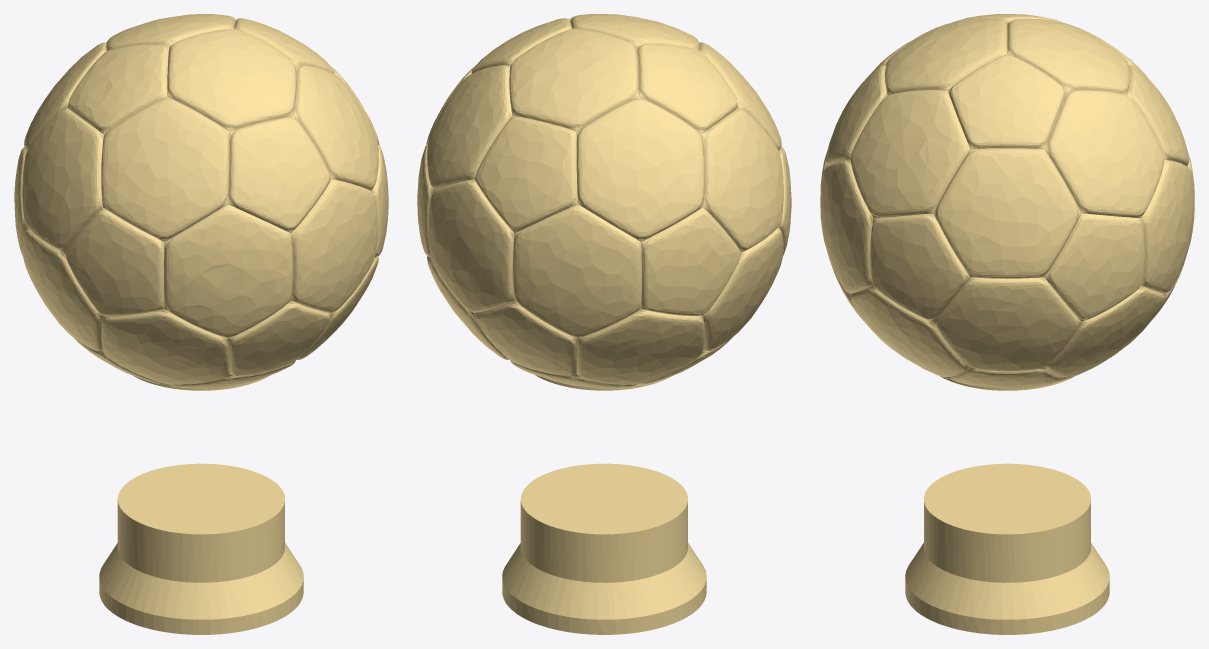
The model's file is Soccer Ball.fbx.
3 views of the same model, side by side, from view 1: azimuth 30°, elevation 25°; view 2: azimuth 150°, elevation 25°; view 3: azimuth 270°, elevation 25° (orthographic).
Parts seen in each view (by area): view 1: Ball, Base; view 2: Ball, Base; view 3: Ball, Base.
Part boxes in pixels (bbox=[...]): Ball: bbox=[14, 14, 388, 390]; Base: bbox=[99, 463, 303, 634]; Ball: bbox=[417, 14, 791, 390]; Base: bbox=[502, 463, 706, 634]; Ball: bbox=[820, 14, 1194, 390]; Base: bbox=[905, 463, 1109, 634].
Size of the model in its own units: 444 by 734 by 444.
